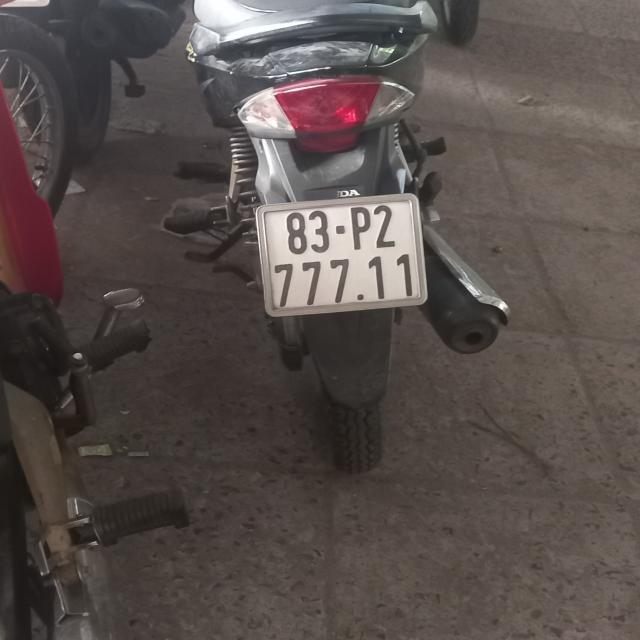1: (368, 256, 385, 299), (397, 254, 412, 298)
2: (373, 204, 397, 248)
3: (309, 210, 329, 255)
7: (329, 258, 349, 305), (273, 263, 293, 308), (301, 261, 321, 305)
8: (286, 212, 307, 255)
P: (351, 207, 370, 250)
